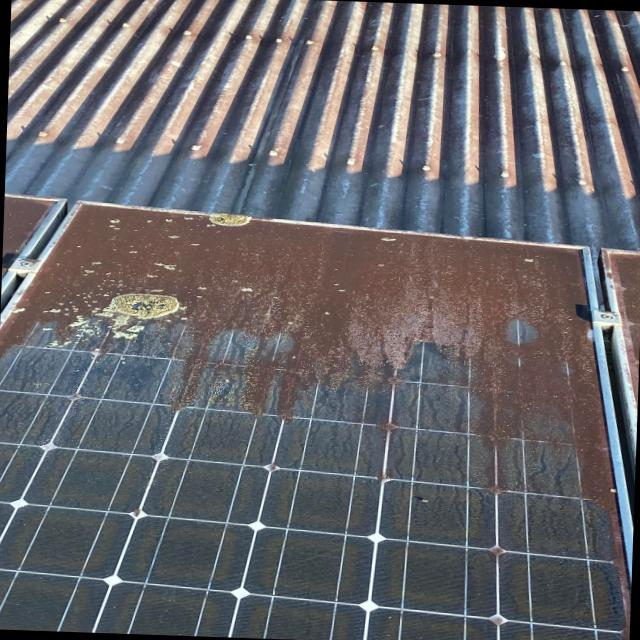faulty: (0, 207, 628, 640), (1, 198, 58, 290)
